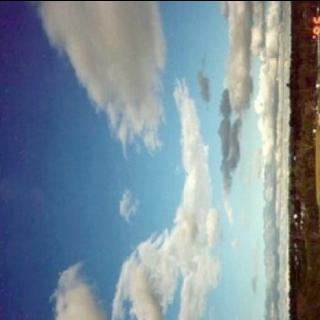Stratocumulus: (0, 0, 288, 320)
